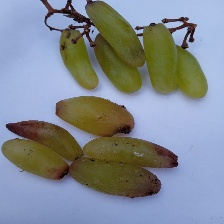grapes: (41, 23, 195, 177)
